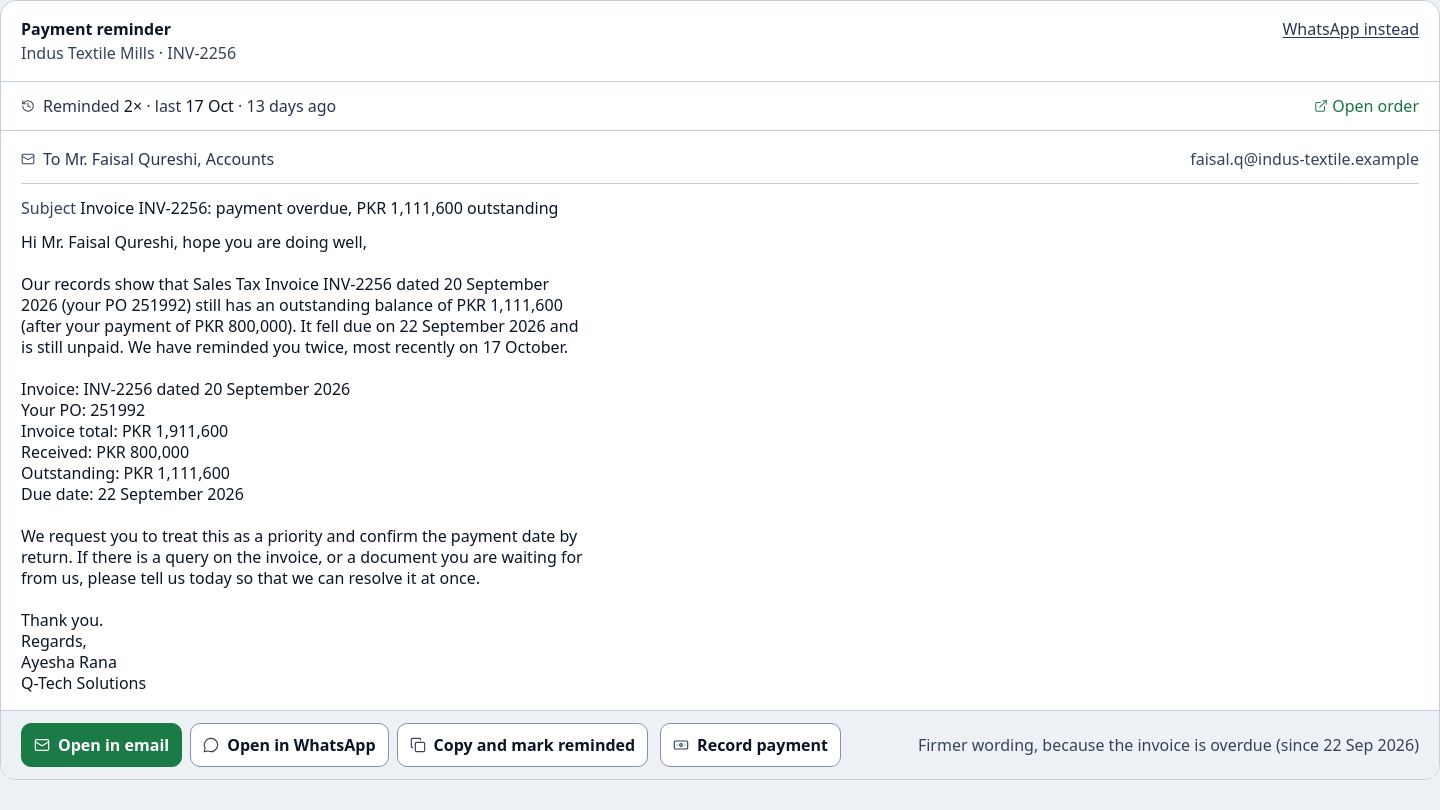
Test: Payment-reminder panel (M09) › "Copy and mark reminded" is one tap: it copies, stamps every invoice of the order, and offers Undo
Expected: the text with test id "reminder-text" is shown, [21,232,588,694]
Click the button "Copy and mark reminded".
click(522, 745)  # box [396,723,648,767]
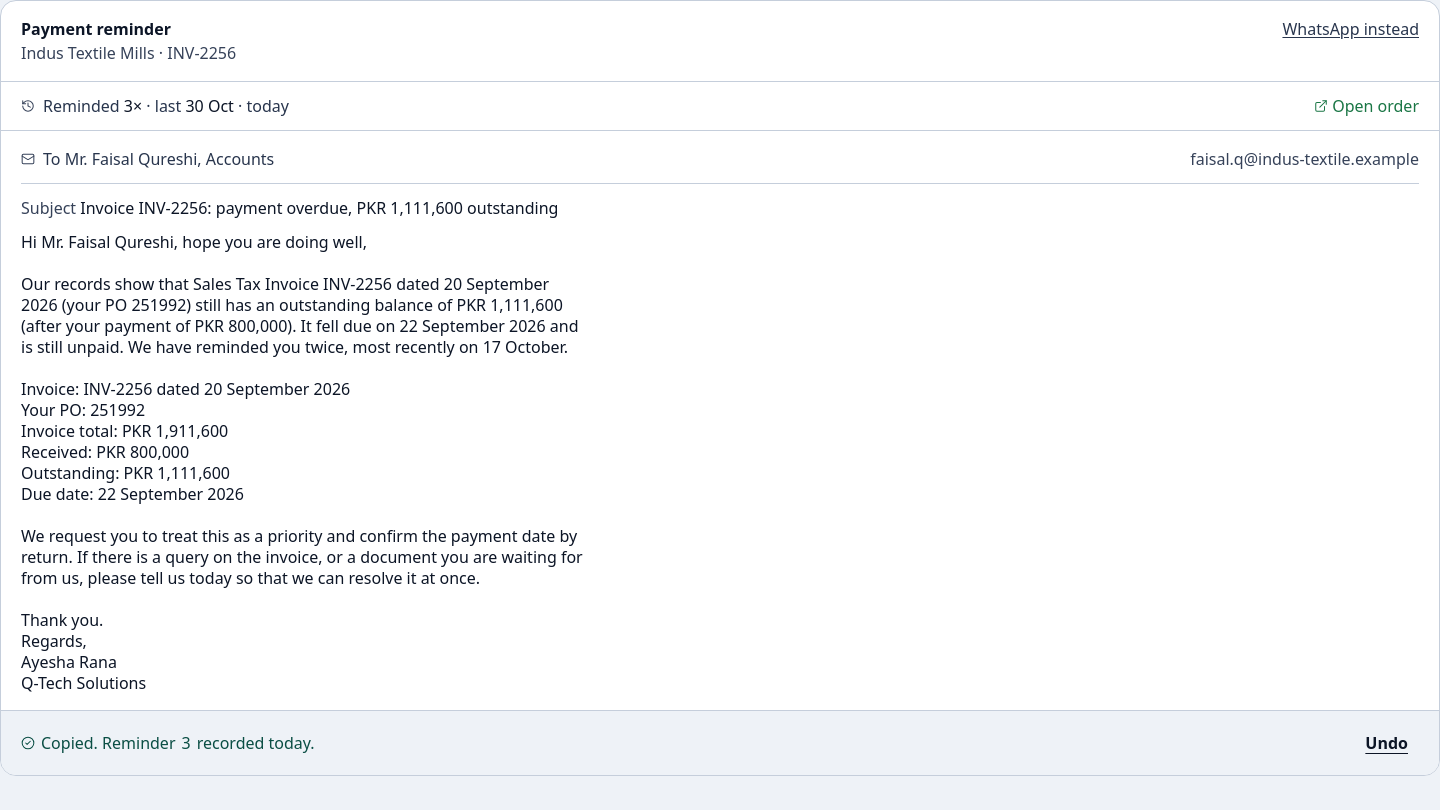
Now the text "Copied. Reminder 3 recorded today." is shown, box [21,731,315,755]
Now the element with test id "reminder-state" reads "Reminded 3× · last 30 Oct · today", box [21,94,289,118]
Now the button "Undo" is shown, box [1354,723,1419,763]
